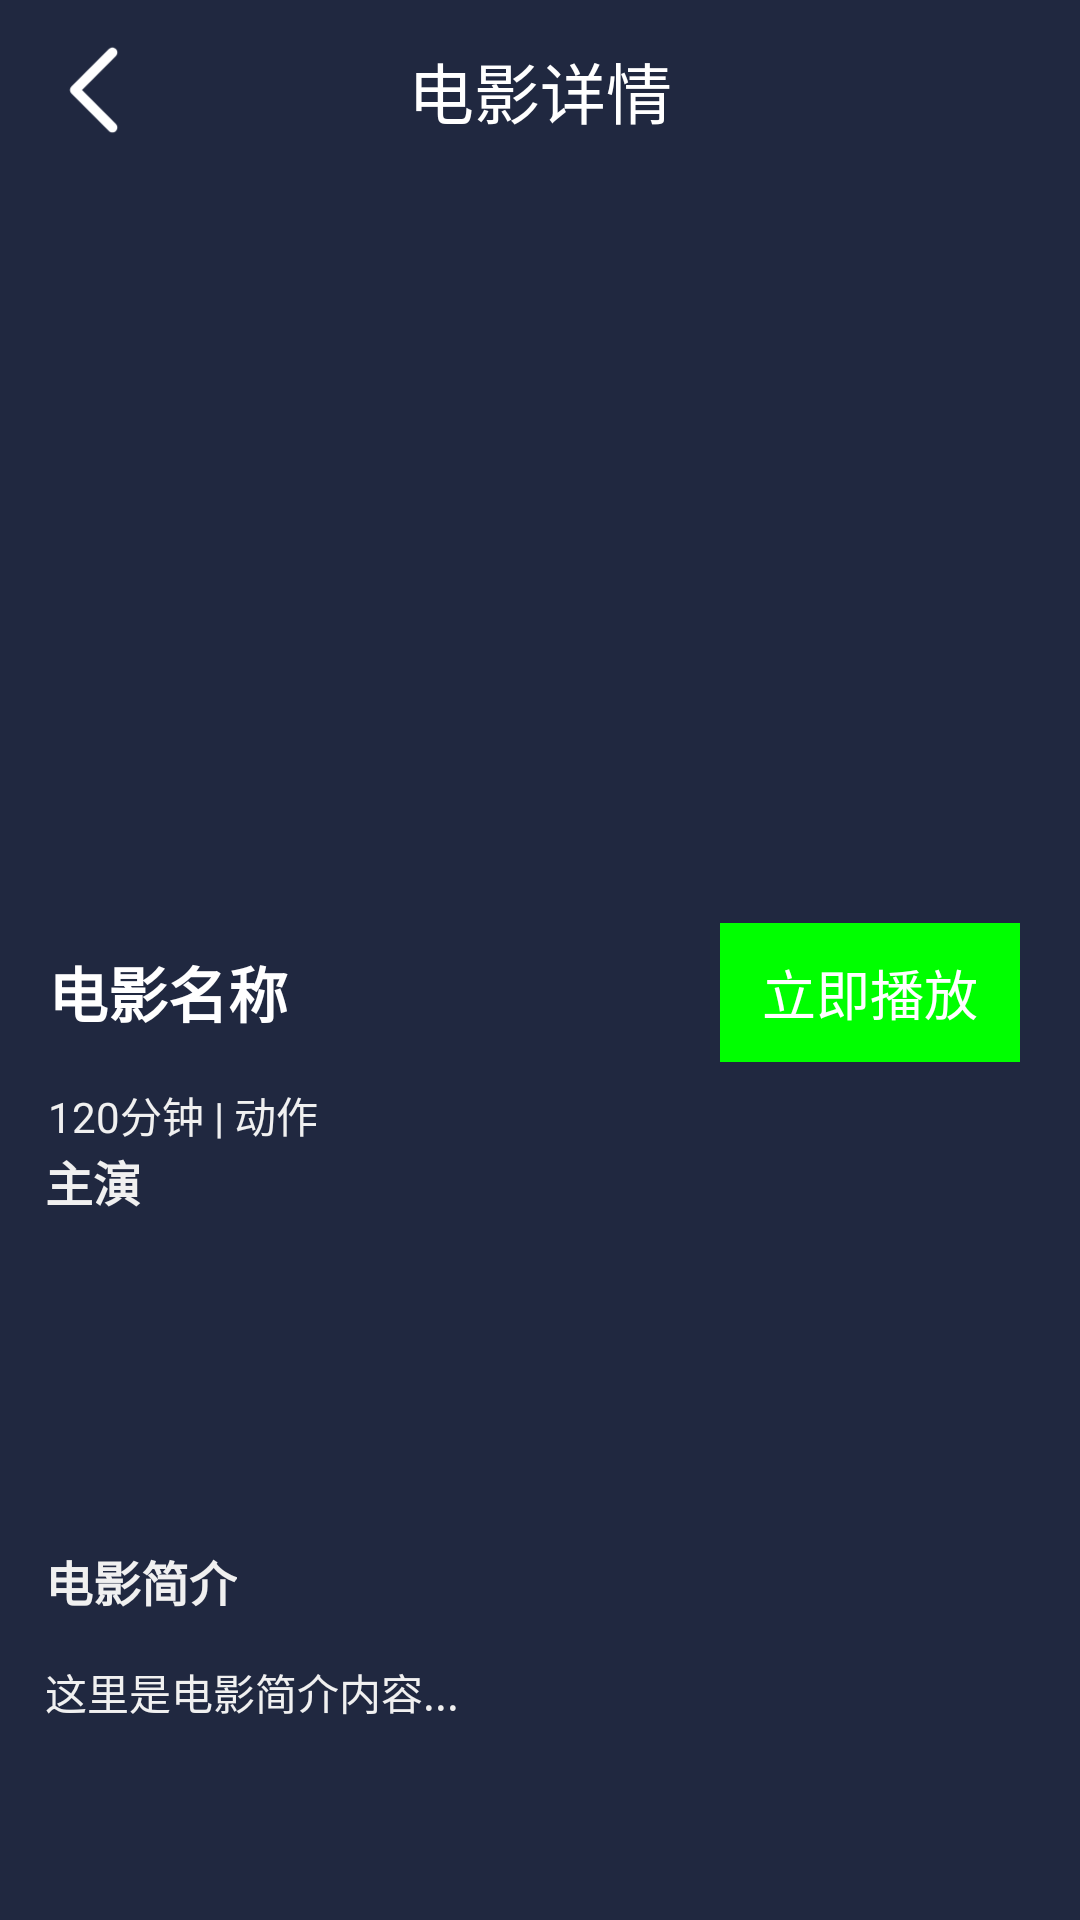

Icon bounding boxes for this 1080w x 1920h phone screenshot, format region(x1, y1, x2, y2):
back: region(69, 47, 118, 133)
